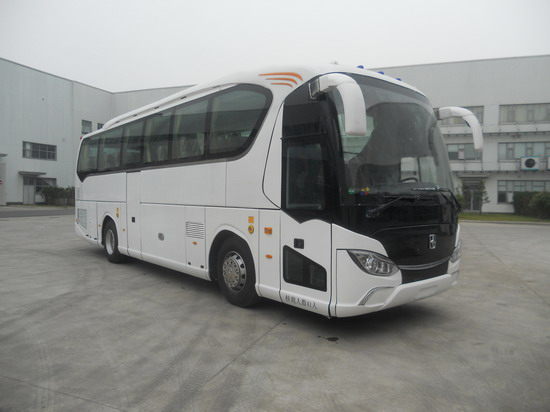bigcar: (73, 48, 500, 323)
